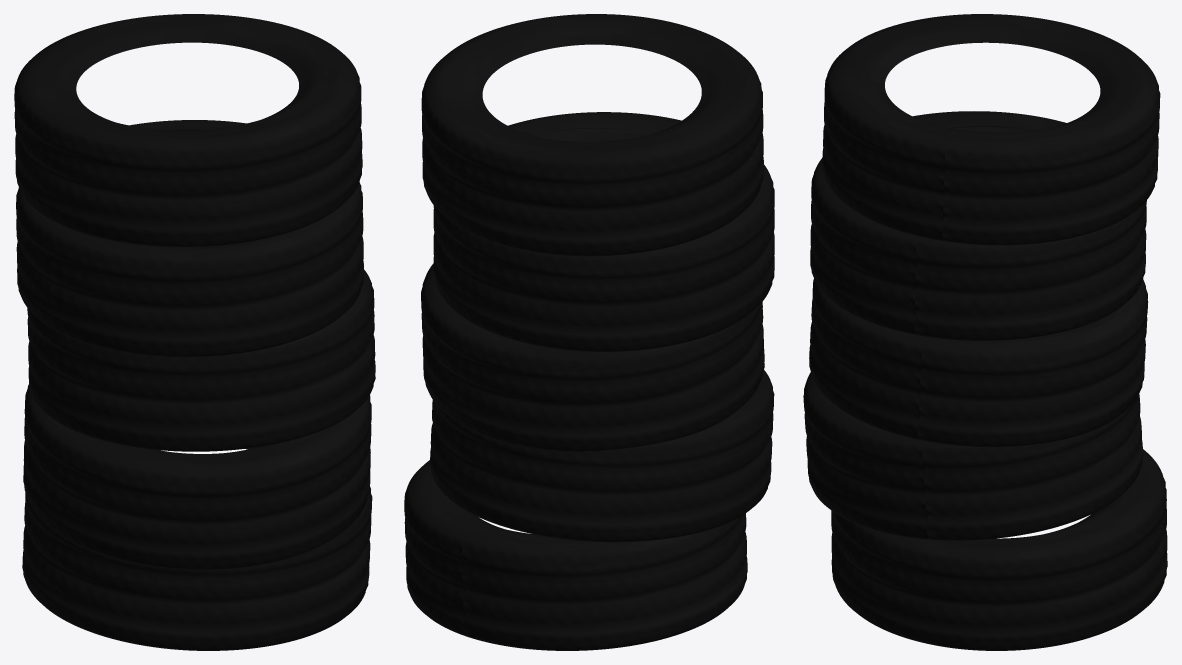
File: tirePile_L2.glb
3 renders of one model, left to right at view 1: azimuth 30°, elevation 25°; view 2: azimuth 150°, elevation 25°; view 3: azimuth 270°, elevation 25°, orthographic. The views are drawn at different scales.
Parts seen in each view (by area): view 1: tire4, tire1, tire3, tire2, tire0; view 2: tire4, tire0, tire3, tire2, tire1; view 3: tire4, tire0, tire2, tire3, tire1.
Boxes of the visible parts, left/top/right/bottom form: tire4: left=14, top=14, right=362, bottom=246; tire1: left=23, top=384, right=371, bottom=569; tire3: left=16, top=120, right=363, bottom=357; tire2: left=27, top=269, right=375, bottom=451; tire0: left=22, top=447, right=372, bottom=650; tire4: left=421, top=14, right=763, bottom=256; tire0: left=404, top=460, right=747, bottom=650; tire3: left=433, top=112, right=774, bottom=351; tire2: left=421, top=263, right=764, bottom=452; tire1: left=430, top=370, right=774, bottom=542; tire4: left=822, top=14, right=1160, bottom=245; tire0: left=831, top=449, right=1167, bottom=650; tire2: left=809, top=279, right=1148, bottom=447; tire3: left=810, top=111, right=1146, bottom=340; tire1: left=803, top=372, right=1143, bottom=540.
Size of the model in its own units: 0.673 by 1.05 by 0.6855.
1 material, 1 textured.
